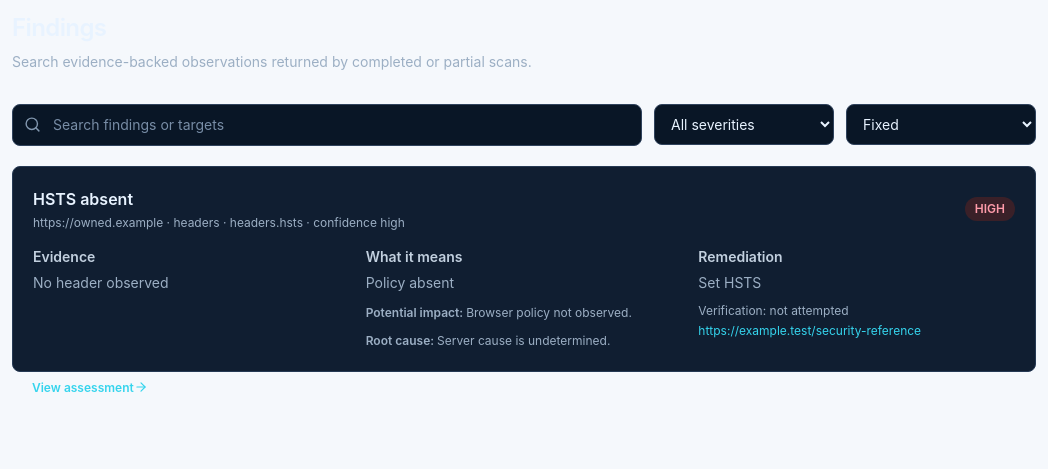
Test: batched findings and verification pages › loads finding cards and lifecycle status with one overview request while preserving filters
Check: the text "HSTS absent" is shown, box [33,189,133,209]
Check: the text "Browser policy not observed." is shown, box [466,305,632,320]
Select "Open" in the dropdown named "Filter finding status": [941, 124] box [846,104,1036,145]
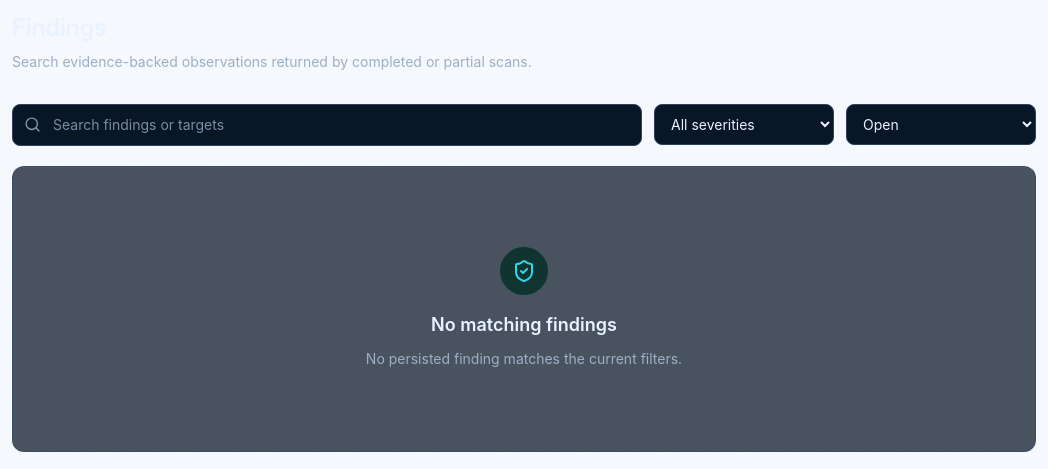
Check: the heading "No matching findings" is shown, box [431,314,617,335]
